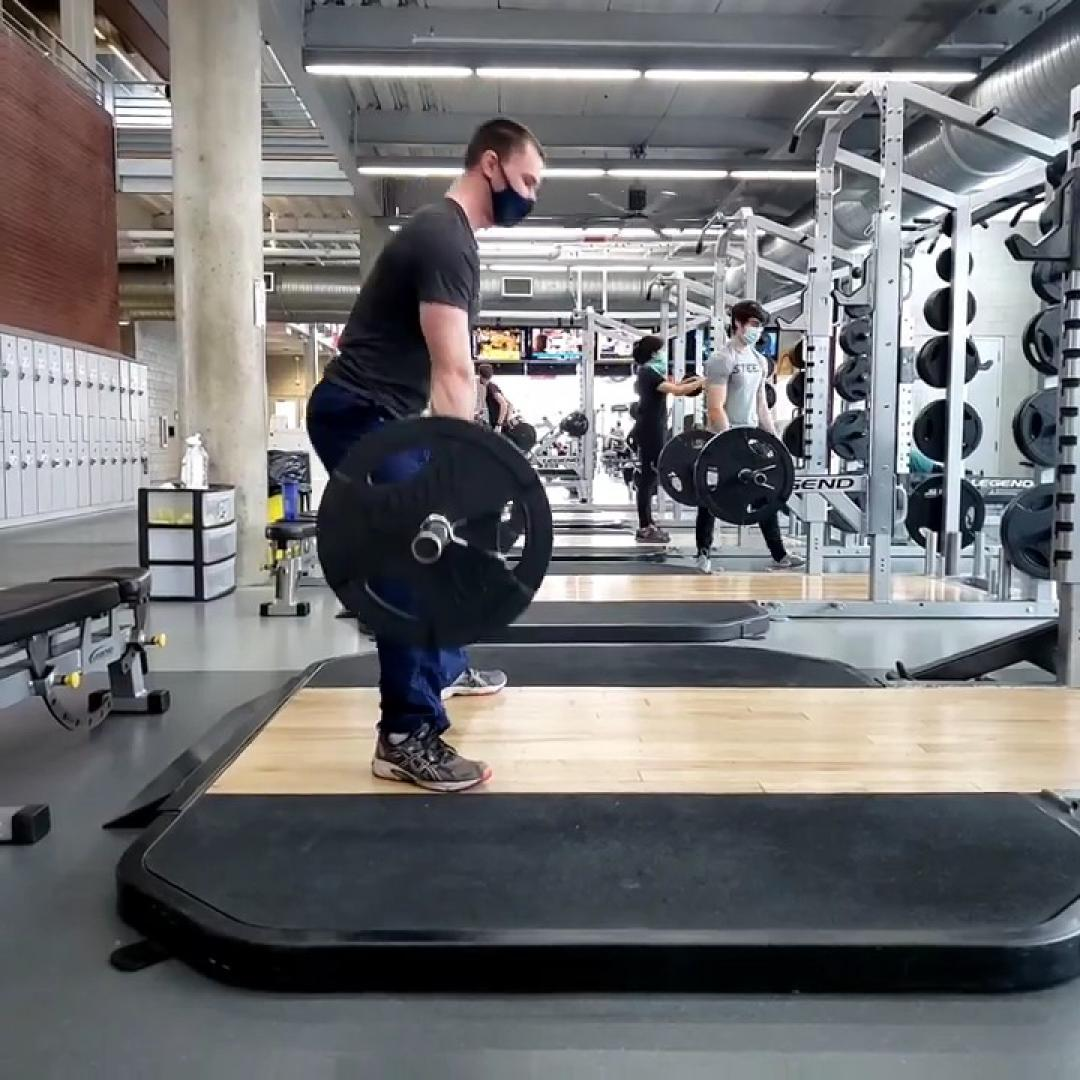Bar: (411, 532, 443, 562)
Barbell: (316, 416, 554, 648)
